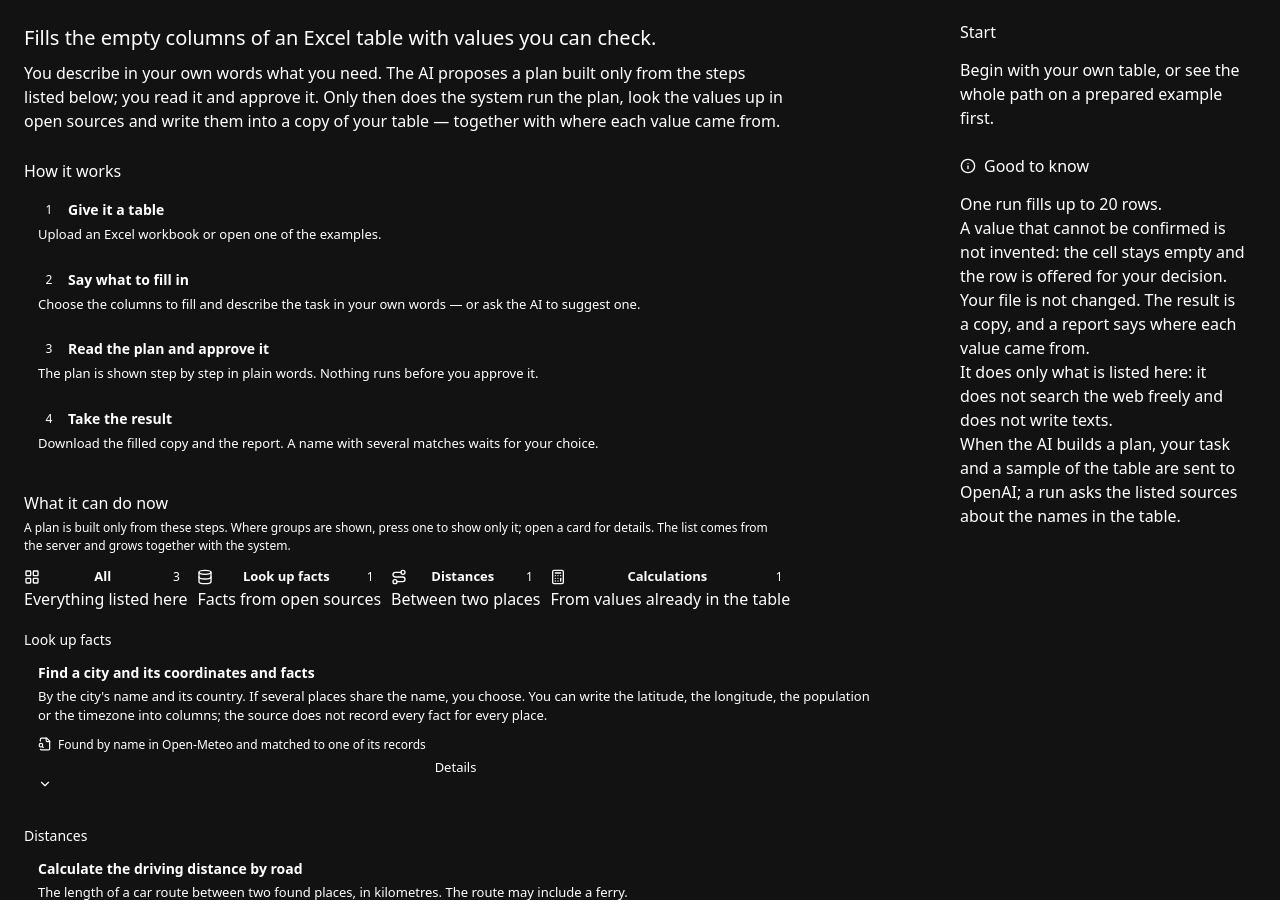
Scenario: tells in Basic what it needs and gives, with an example, and no contract
The image size is (1280, 900).
What coordinates should you click on to do the following:
click the button "Details"
I would click on:
 (456, 774)
Its box is [38,758,873,791].
(page scrolled)
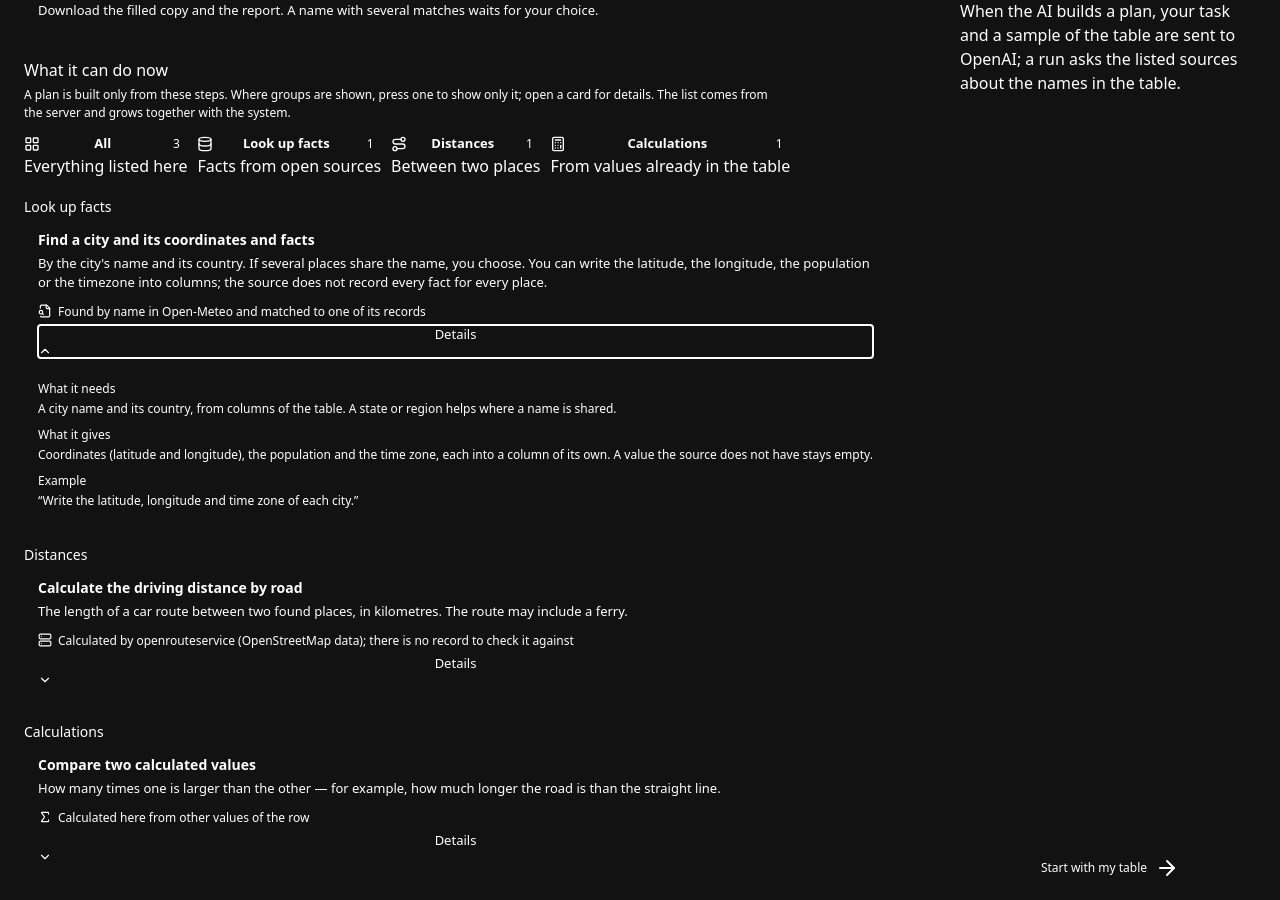
Now the text "A city name and its country, from columns of the table. A state or region helps where a name is shared." is shown, box [38,400,616,417]
Now the text "Coordinates (latitude and longitude), the population and the time zone, each into a column of its own. A value the sourc" is shown, box [38,446,873,463]
Now the text "“Write the latitude, longitude and time zone of each city.”" is shown, box [38,492,358,509]
